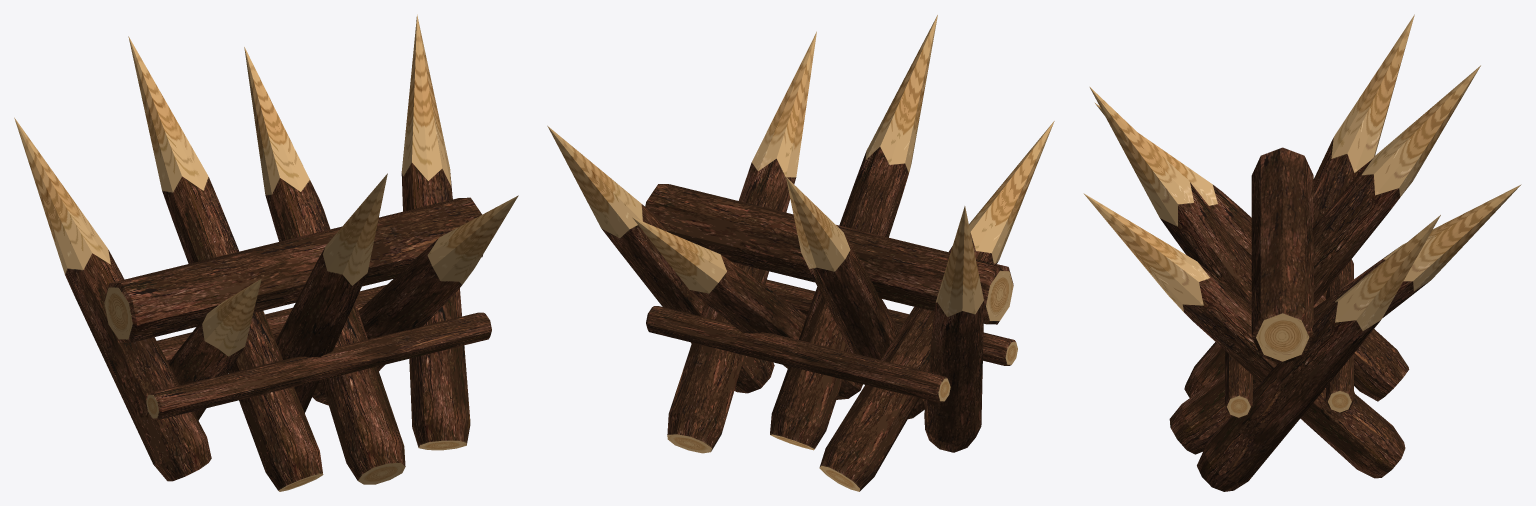
Rendered from Assets - Wooden Spike Wall1.0 .fbx.
3 views of the same model, side by side, from view 1: azimuth 30°, elevation 25°; view 2: azimuth 150°, elevation 25°; view 3: azimuth 270°, elevation 25° (orthographic). The views are drawn at different scales.
Visible parts, largest first — view 1: Log, Spike-base.003, Spike-base.001, Spike-base.005, Spike-base.007, Log.001, Spike-base.004, Spike-base.006, Spike-base.002, Log.002; view 2: Log, Spike-base.004, Spike-base.002, Spike-base.006, Spike-base.001, Log.002, Spike-base.003, Spike-base.007, Spike-base.005, Log.001; view 3: Spike-base.007, Spike-base.006, Log, Spike-base.003, Spike-base.004, Spike-base.005, Spike-base.001, Spike-base.002, Log.002, Log.001.
Part boxes in pixels (box(x1,y1,x2,y2)): Log: box(104, 197, 482, 342); Spike-base.003: box(128, 36, 323, 491); Spike-base.001: box(14, 117, 211, 481); Spike-base.005: box(244, 47, 405, 484); Spike-base.007: box(401, 14, 470, 450); Log.001: box(146, 312, 491, 419); Spike-base.004: box(276, 173, 387, 413); Spike-base.006: box(312, 195, 518, 405); Spike-base.002: box(169, 278, 261, 420); Log.002: box(157, 285, 386, 363); Log: box(645, 184, 1013, 324); Spike-base.004: box(770, 15, 937, 450); Spike-base.002: box(819, 121, 1054, 491); Spike-base.006: box(667, 31, 816, 453); Spike-base.001: box(924, 206, 983, 452); Log.002: box(646, 306, 950, 402); Spike-base.003: box(786, 177, 925, 419); Spike-base.007: box(547, 125, 774, 393); Spike-base.005: box(632, 217, 862, 399); Log.001: box(765, 279, 1017, 365); Spike-base.007: box(1197, 215, 1440, 491); Spike-base.006: box(1083, 193, 1405, 478); Log: box(1251, 147, 1313, 364); Spike-base.003: box(1184, 65, 1480, 397); Spike-base.004: box(1089, 87, 1354, 393); Spike-base.005: box(1169, 184, 1521, 454); Spike-base.001: box(1313, 14, 1414, 226); Spike-base.002: box(1094, 102, 1409, 401); Log.002: box(1326, 259, 1353, 413); Log.001: box(1225, 350, 1252, 418).
Bounding box in the file's own units: 1096 × 919 × 1060.
Materials: 2 (2 with a texture image).
